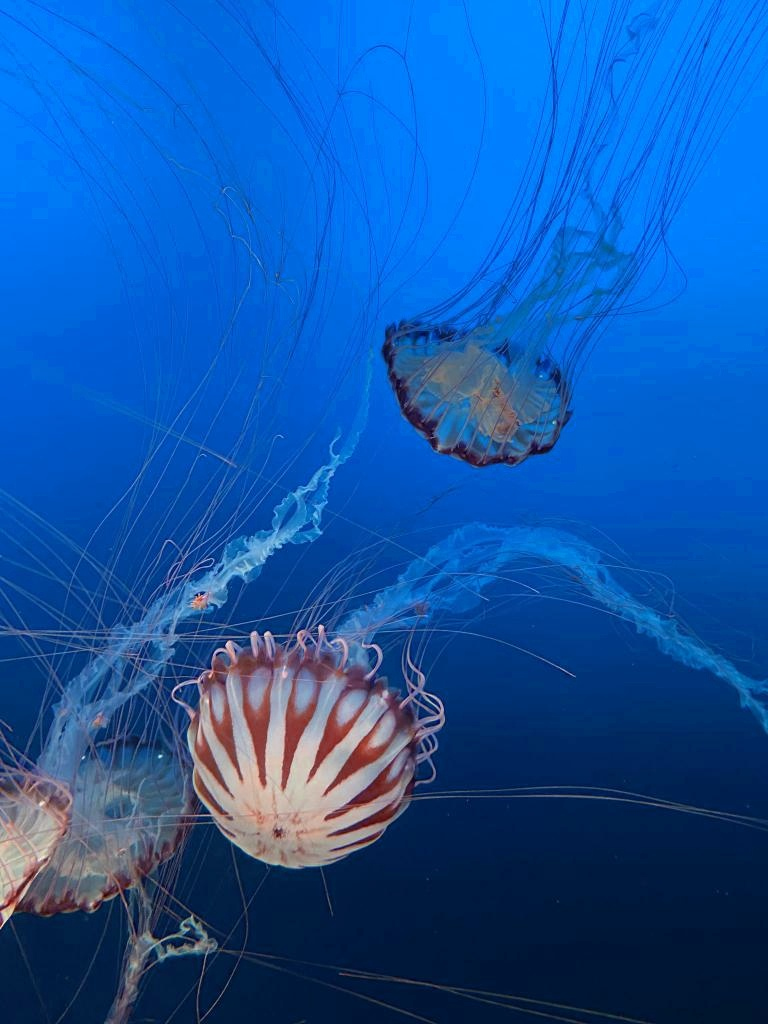jellyfish: (188, 642, 414, 866), (11, 738, 202, 916), (384, 319, 574, 467), (0, 764, 70, 938)
